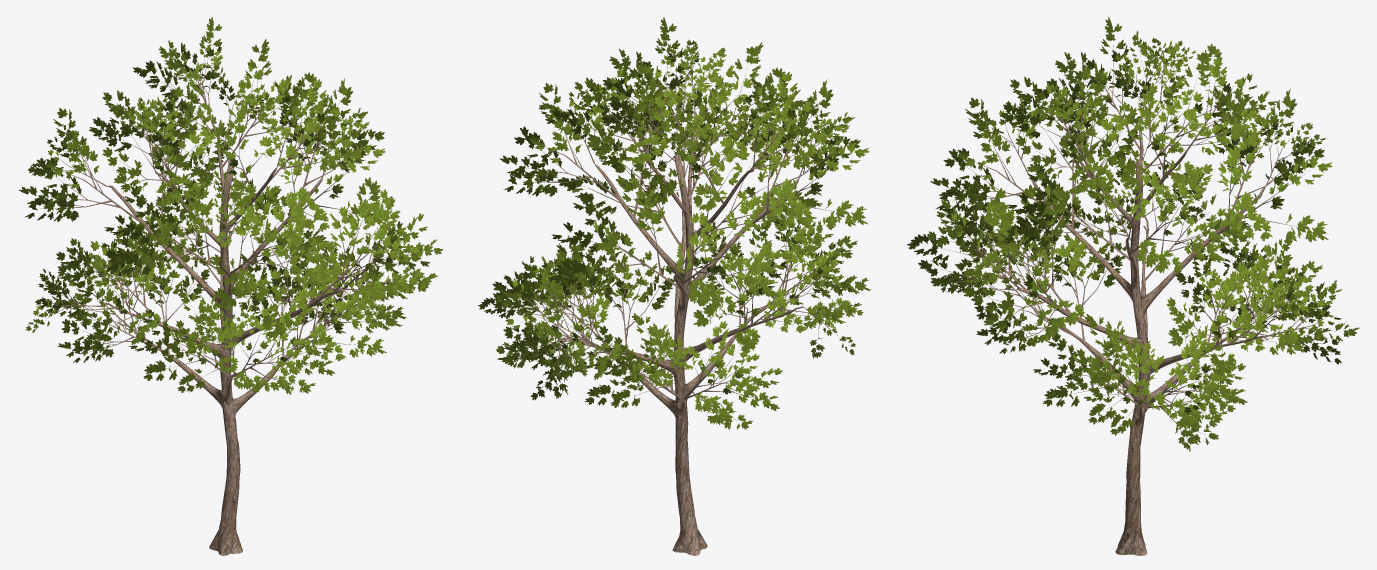
The model's file is maple9.obj.
The picture shows the model from 3 angles, left to right: view 1: azimuth 30°, elevation 25°; view 2: azimuth 150°, elevation 25°; view 3: azimuth 270°, elevation 25°; orthographic projection. The views are drawn at different scales.
Parts seen in each view (by area): view 1: leaf maple, bark02; view 2: leaf maple, bark02; view 3: leaf maple, bark02.
Boxes of the visible parts, x1,y1,x2,y2 form: leaf maple: (18,17,443,394); bark02: (35,46,423,555); leaf maple: (478,17,871,429); bark02: (506,39,851,555); leaf maple: (907,17,1359,451); bark02: (938,45,1339,555).
Bounding box in the file's own units: 596 × 793 × 647.
2 materials, 2 textured.
